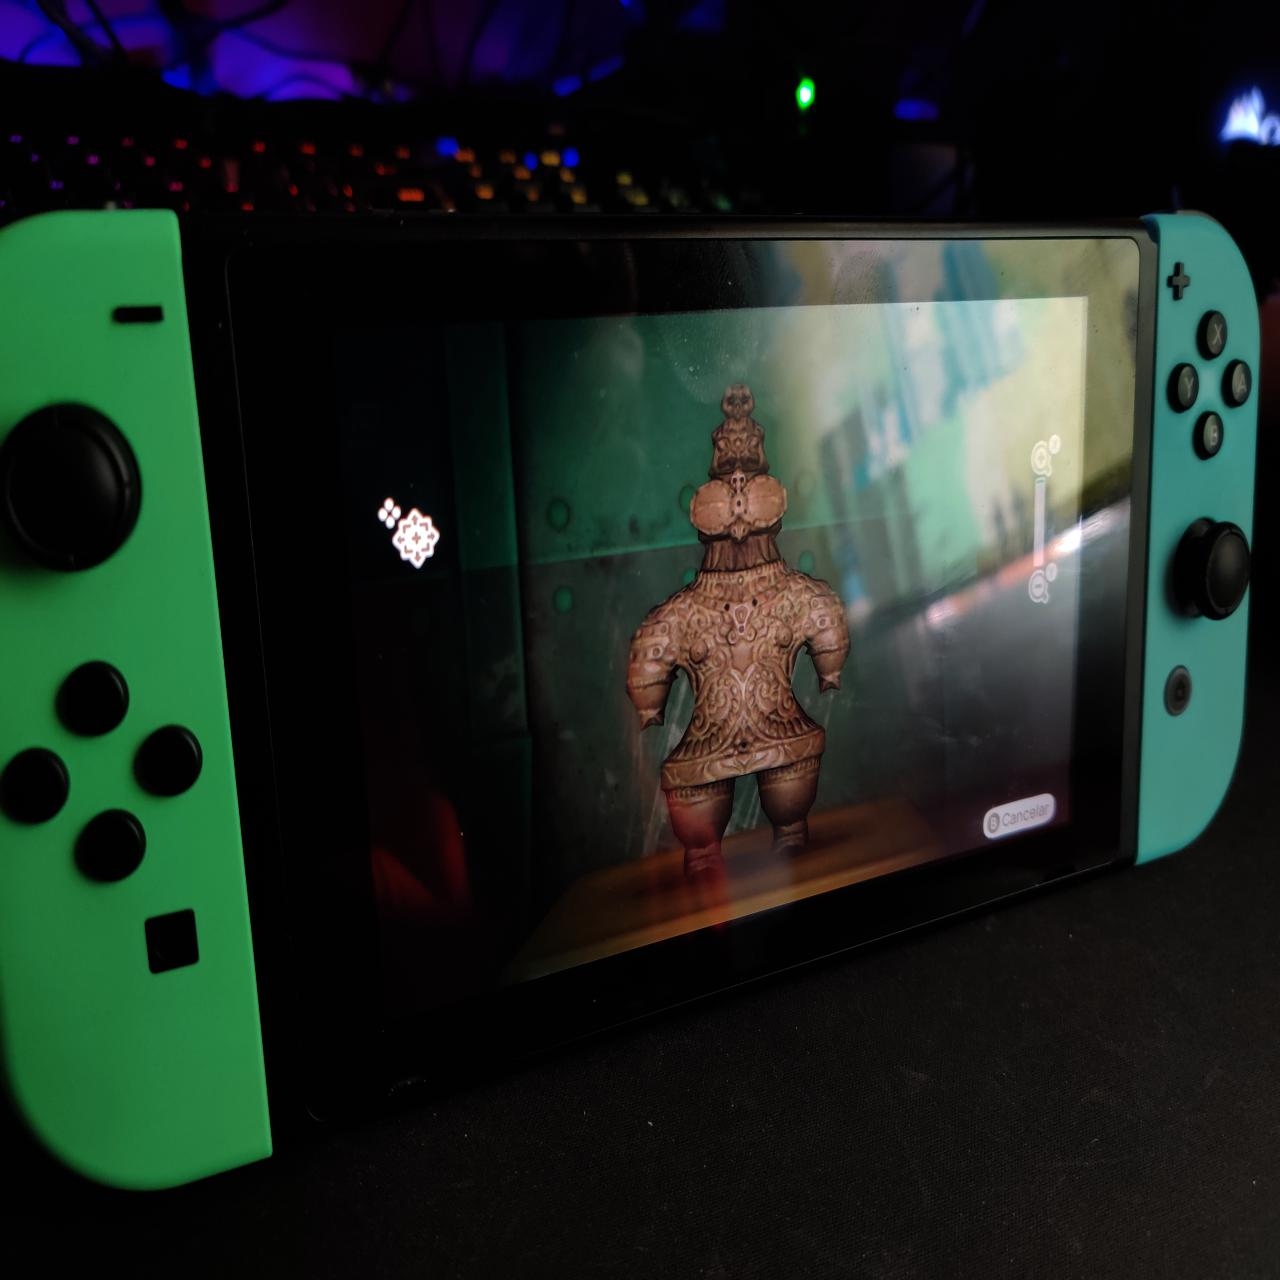Doguu: (626, 381, 855, 876)
